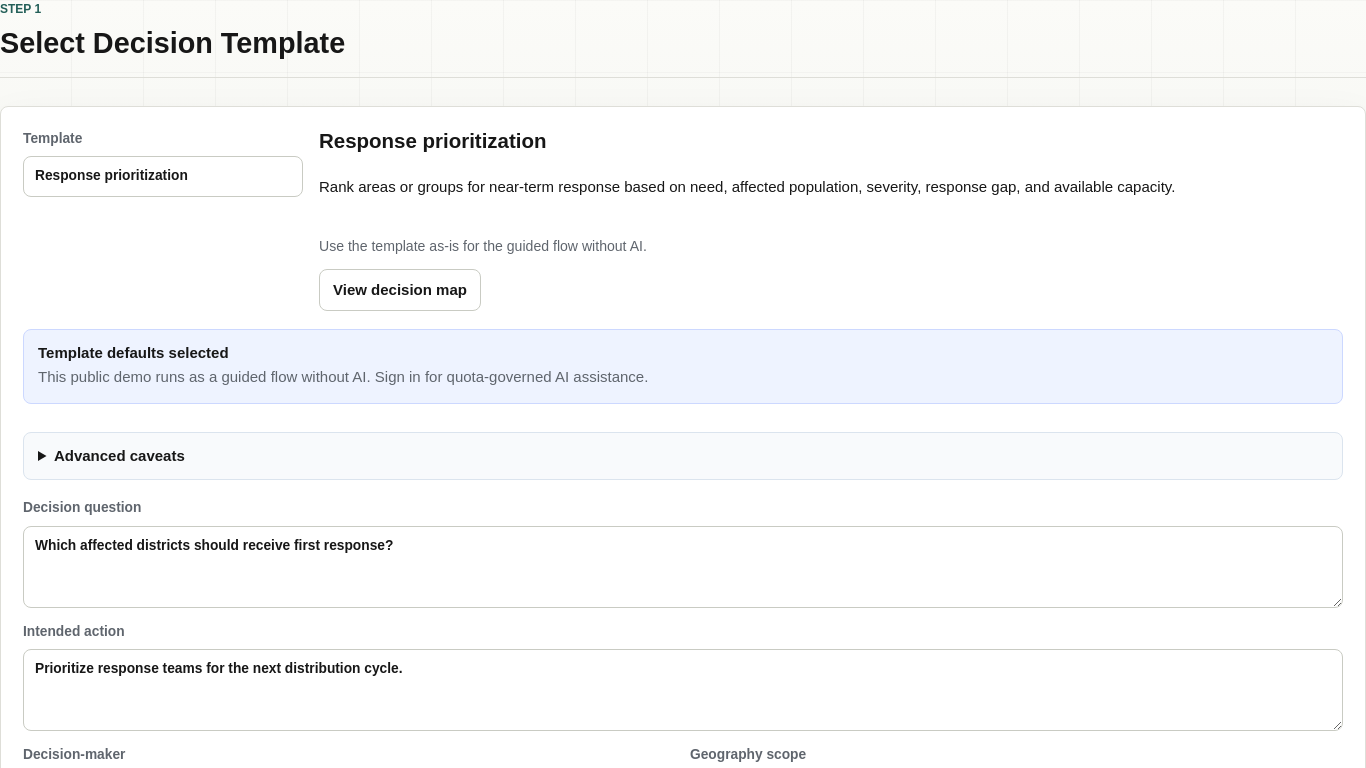
workflow accessibility behavior › traps focus inside the decision map dialog and restores focus on close
Click the button "View decision map".
click(400, 290)  # box [319, 269, 481, 311]
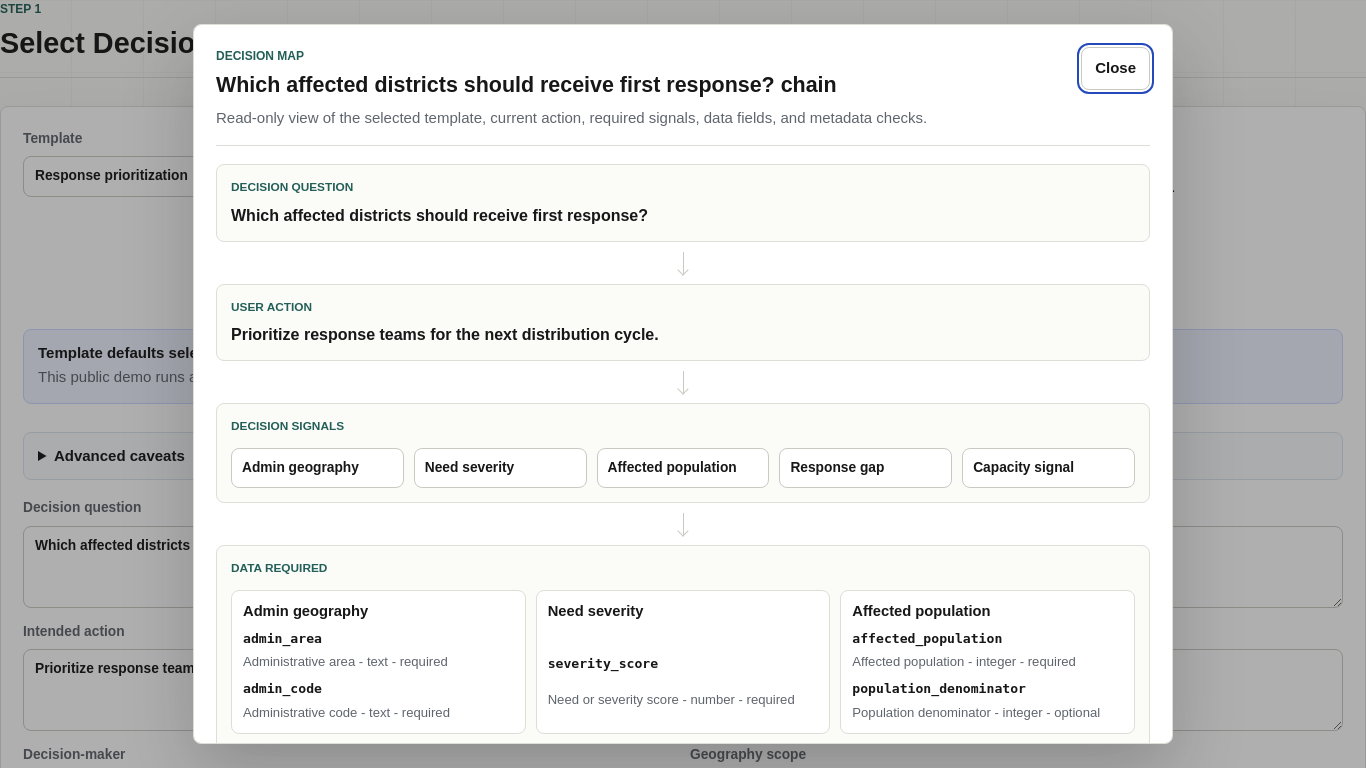
Press Tab
Type keys "{Shift>}{Tab}{/Shift}"
Press Escape
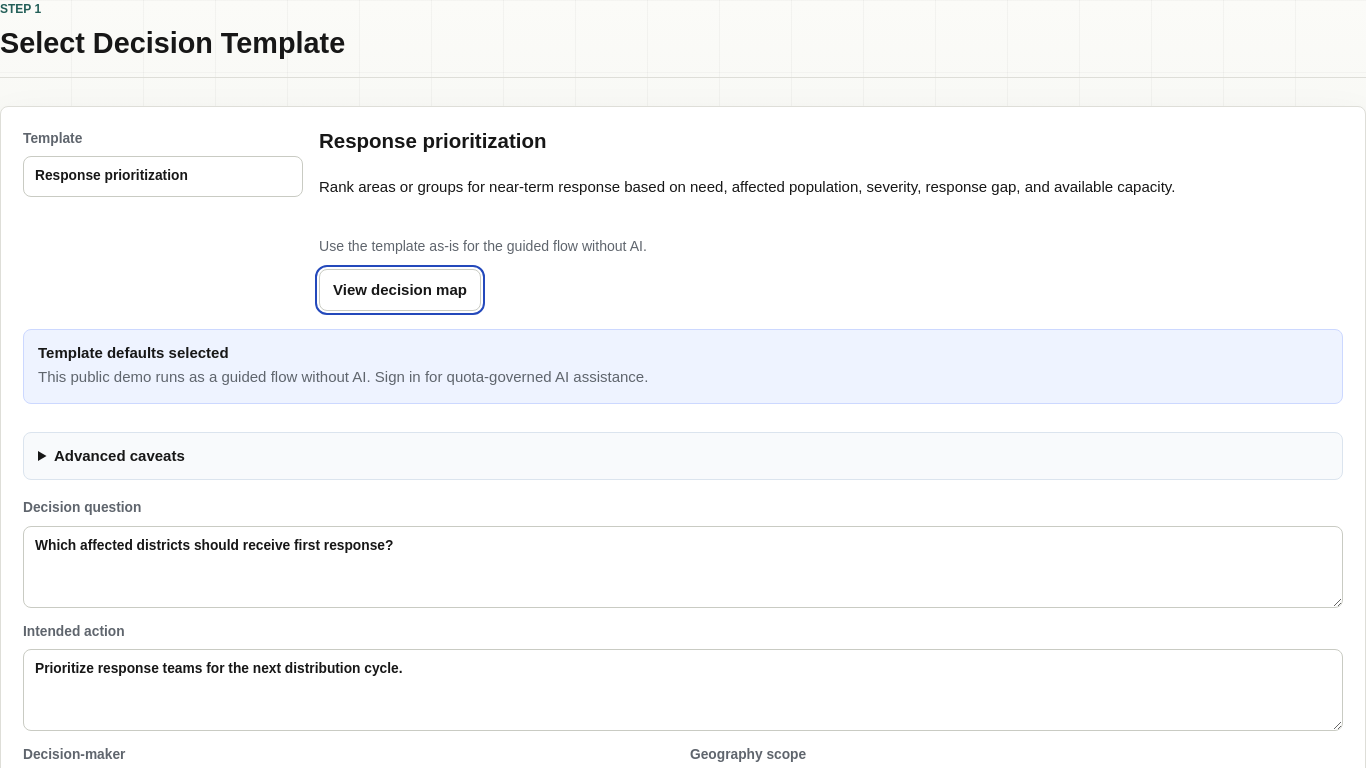
Expected: the dialog is gone
